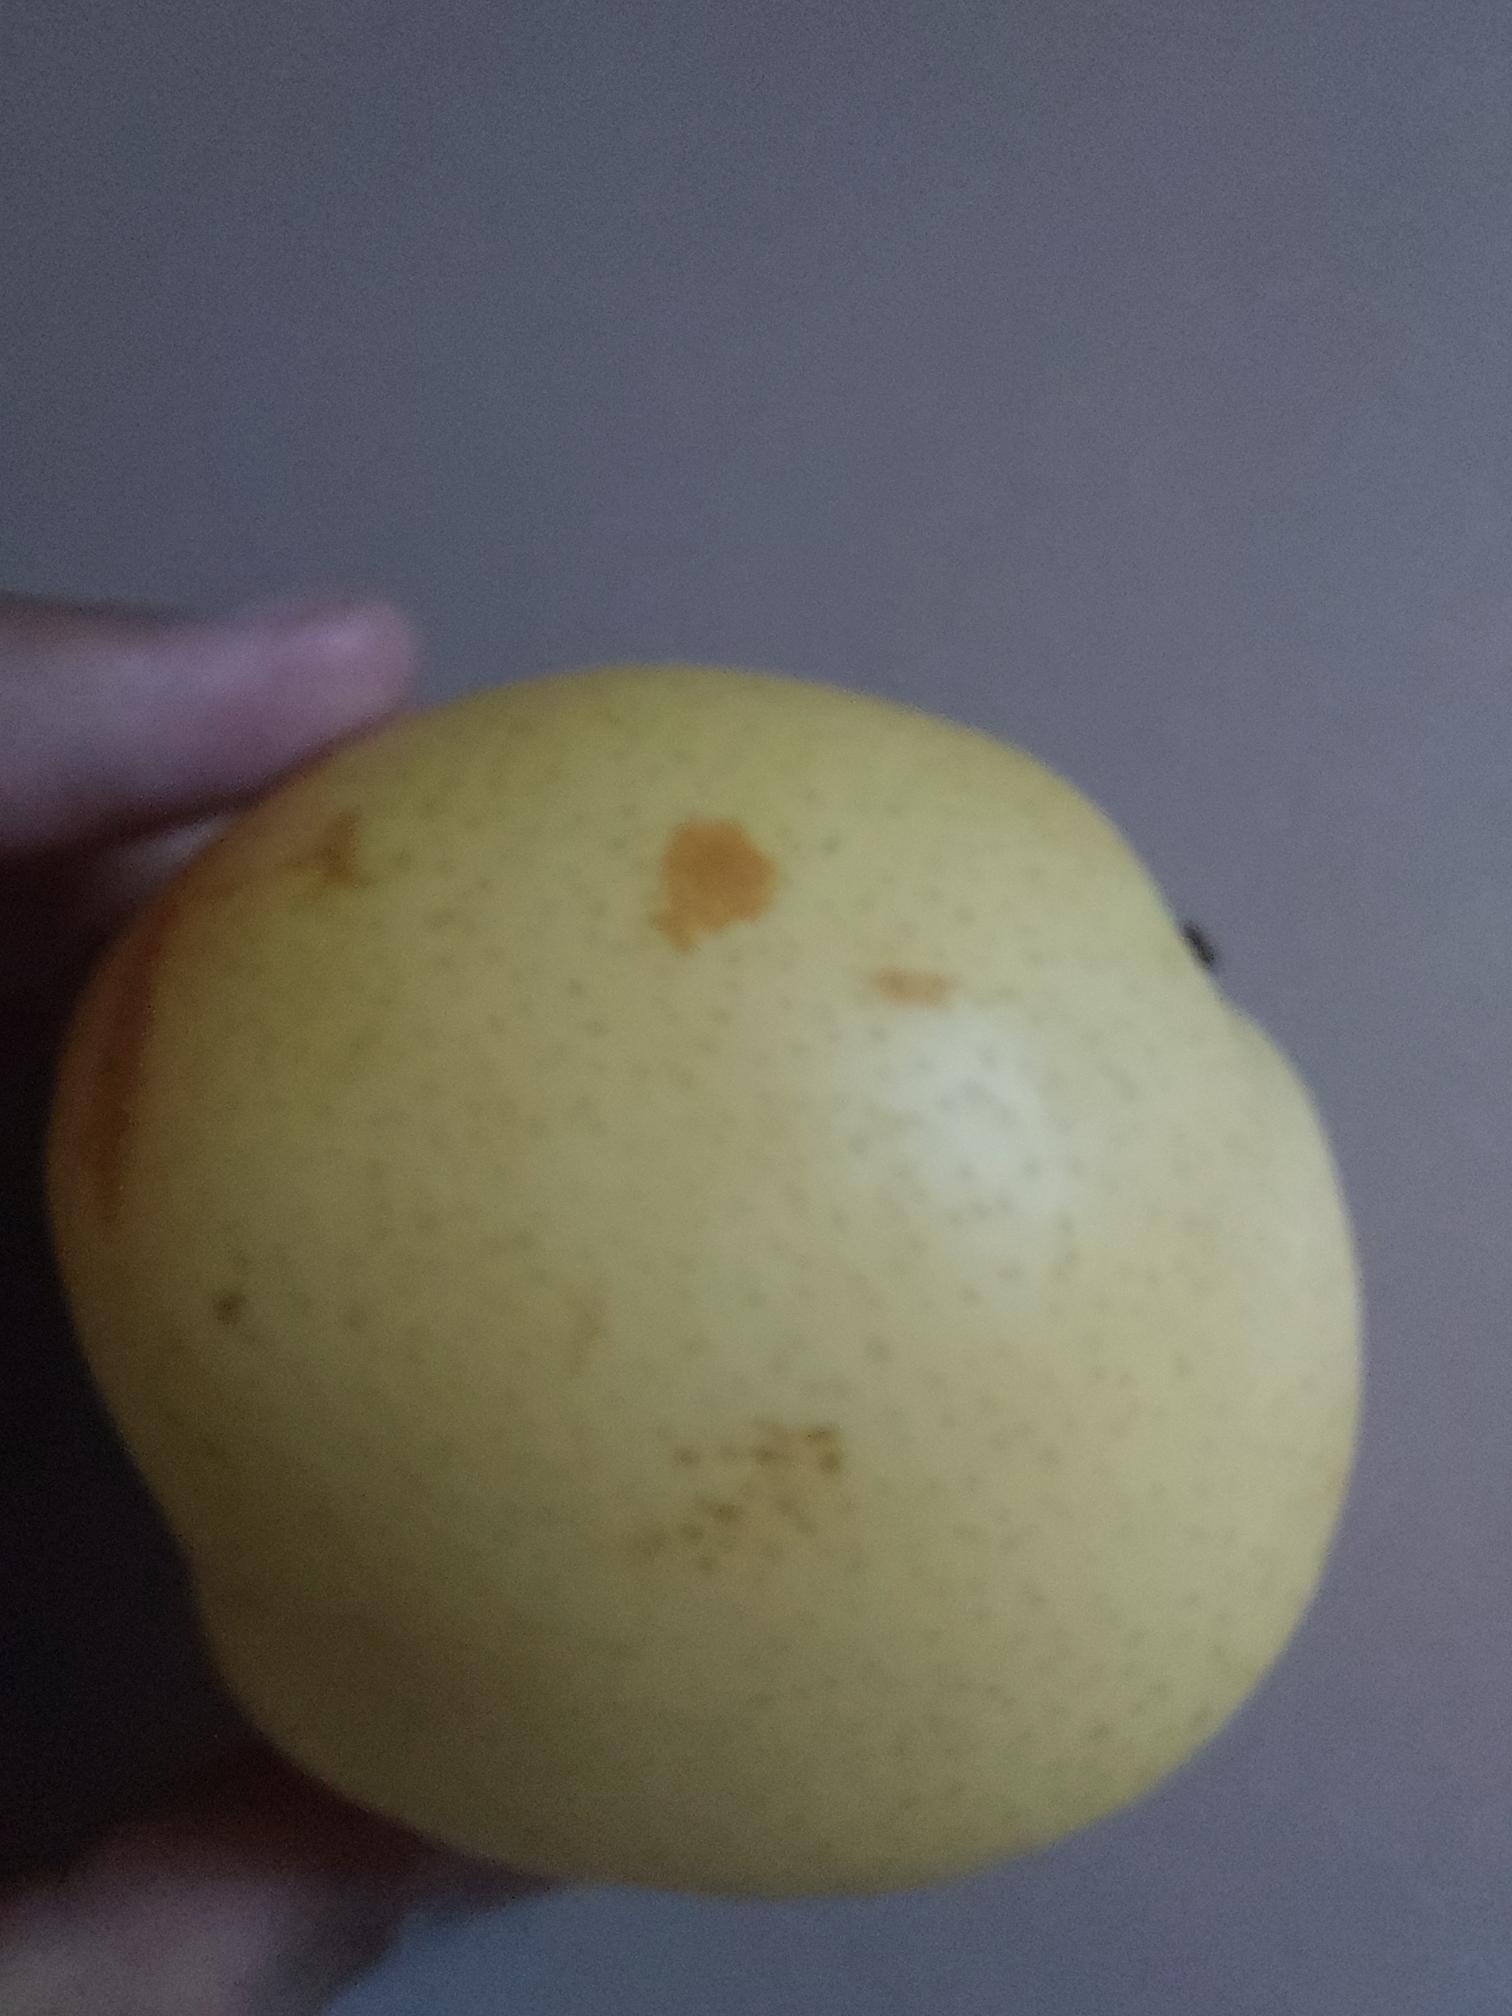Good Pear: (51, 638, 1402, 1906)
